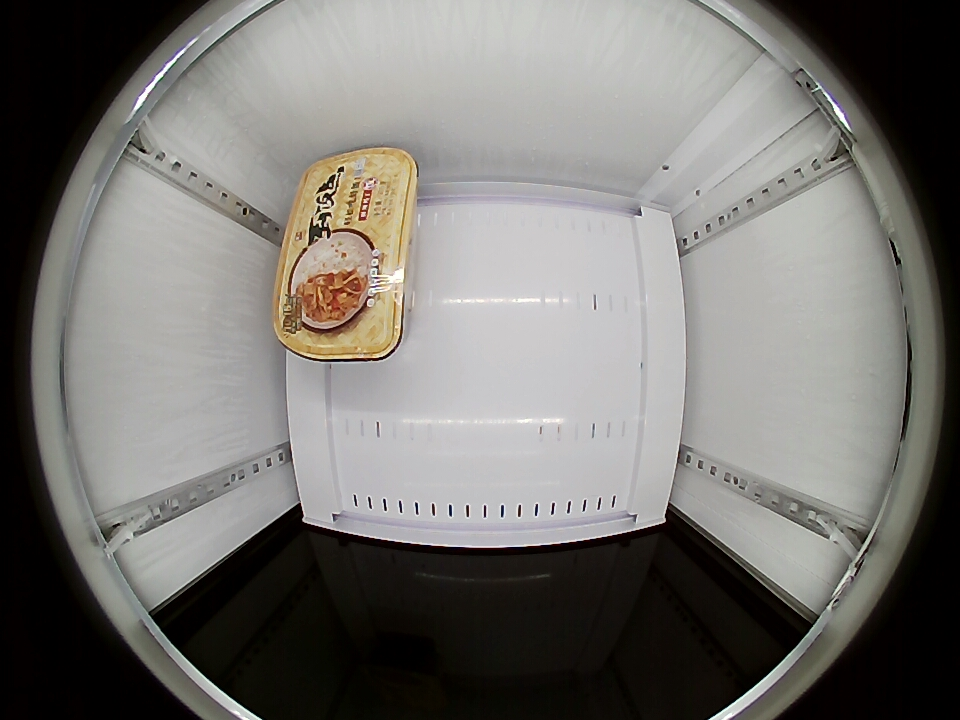daofandian4: (274, 147, 417, 364)
